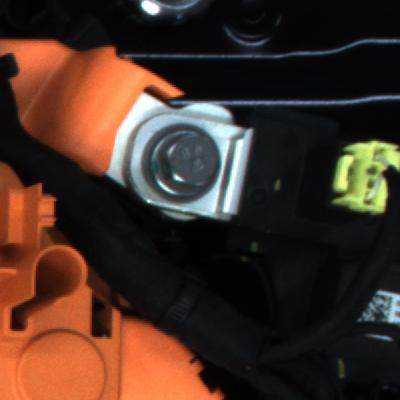nut_b: (141, 126, 241, 210)
